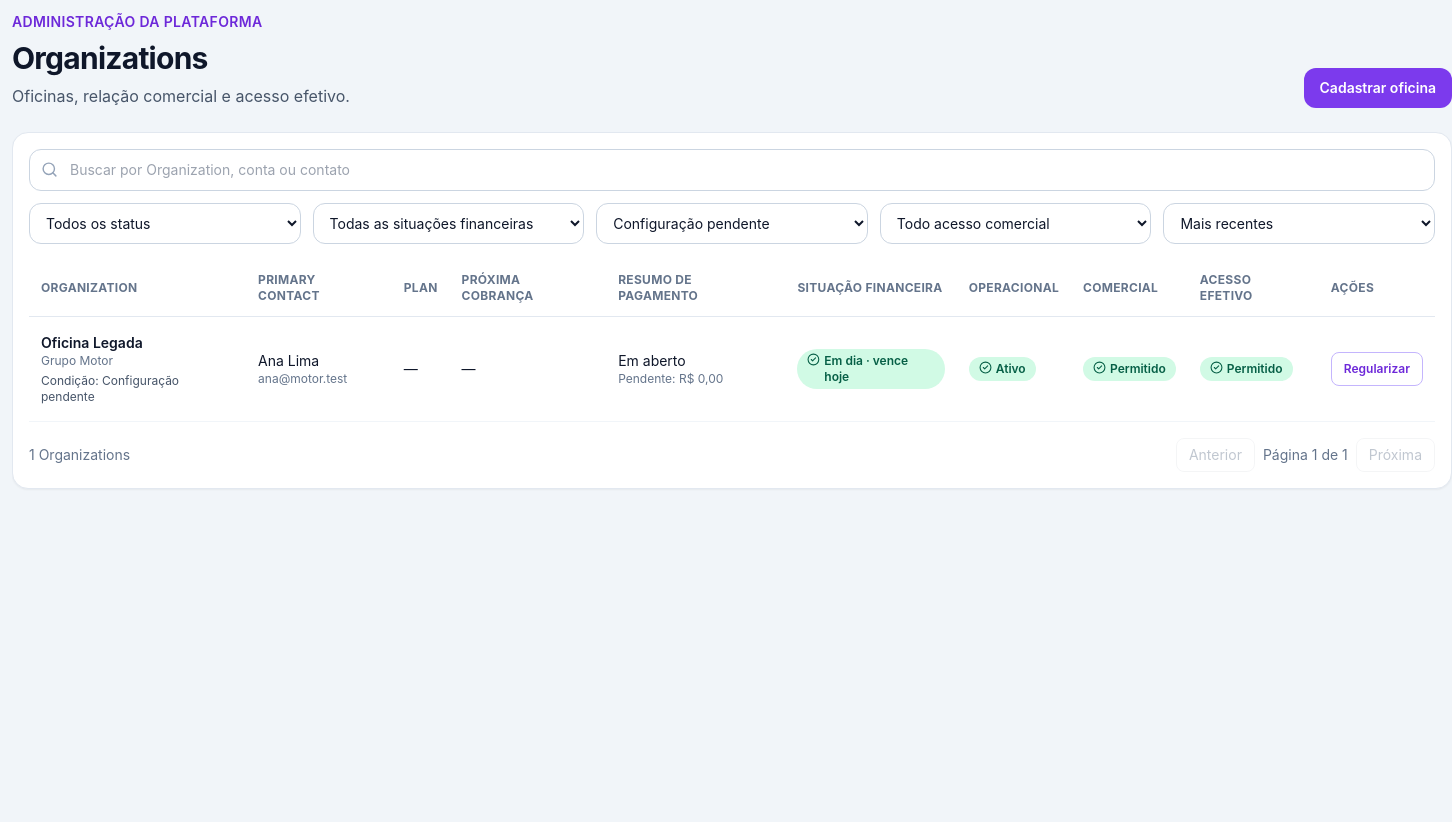
Test case: Platform Organizations › regularizes a pending Organization with the contracted price and billing dates
This screenshot has width=1452, height=822.
Click the button named "Regularizar Oficina Legada" at (1377, 369), box [1331,352,1423,386]
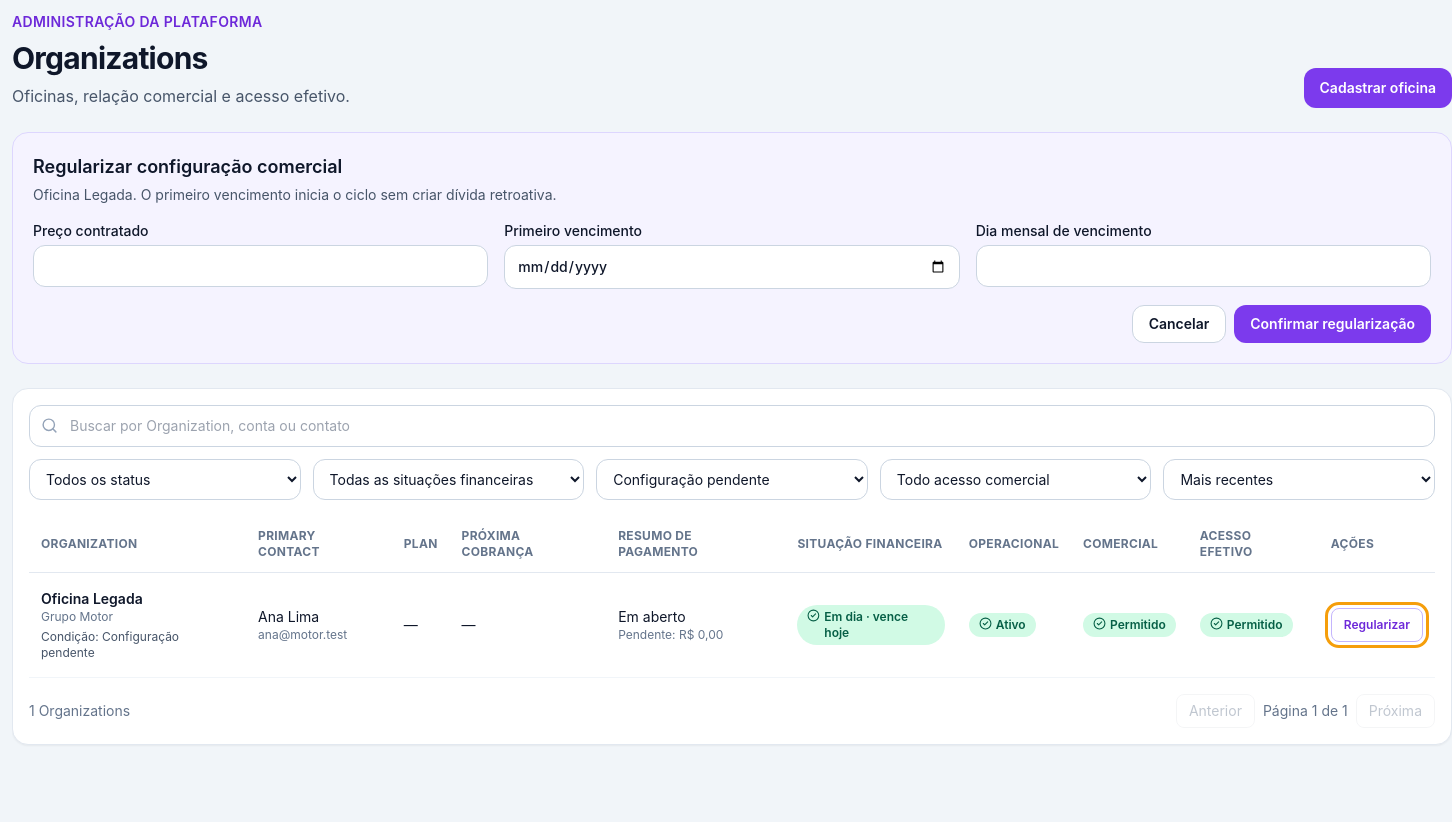
Type "89.90" into the field labelled "Preço contratado" at (261, 266), box [33,245,488,287]
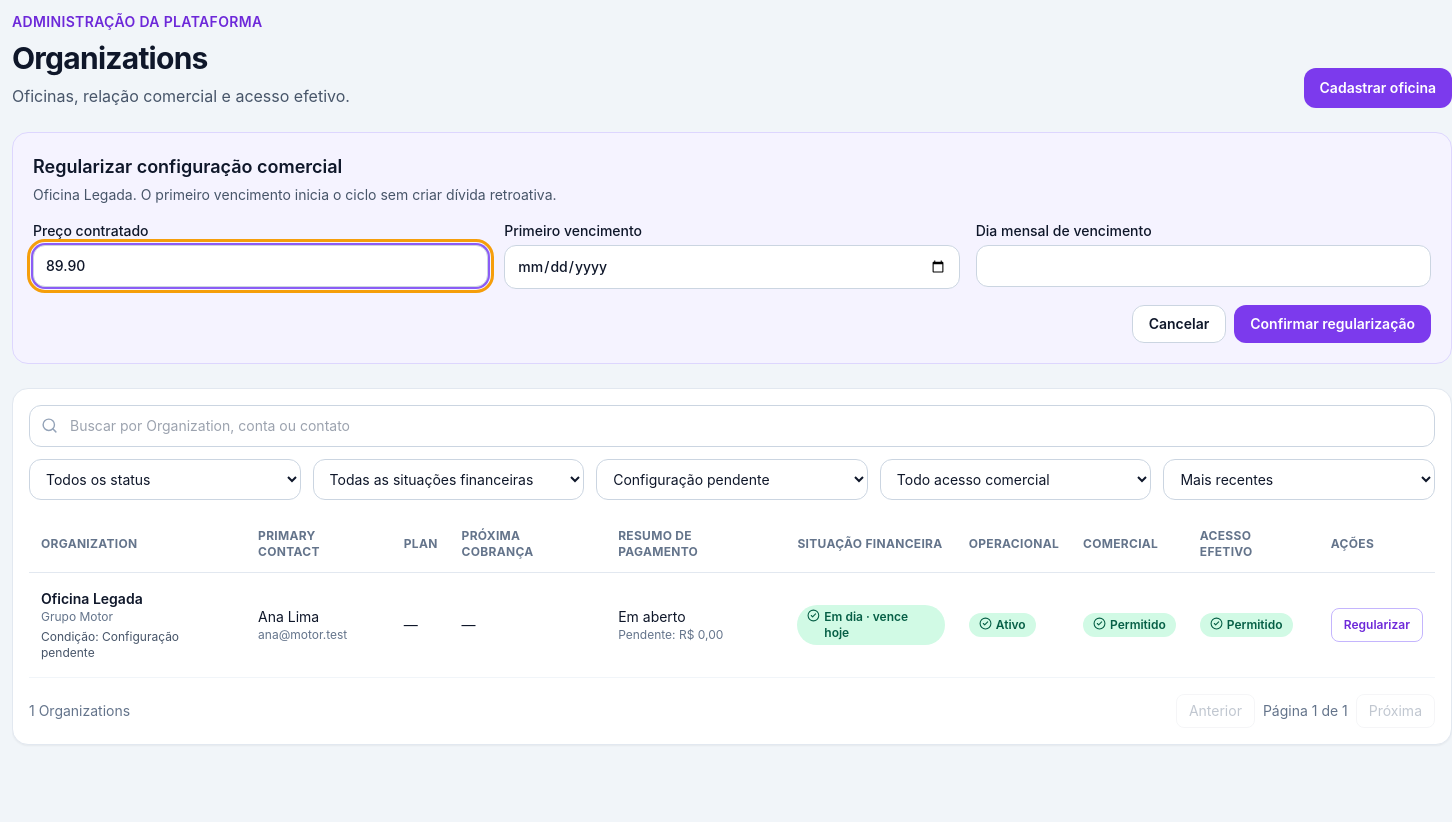
Type "2026-10-10" into the date field labelled "Primeiro vencimento" at (732, 267), box [504,245,960,289]
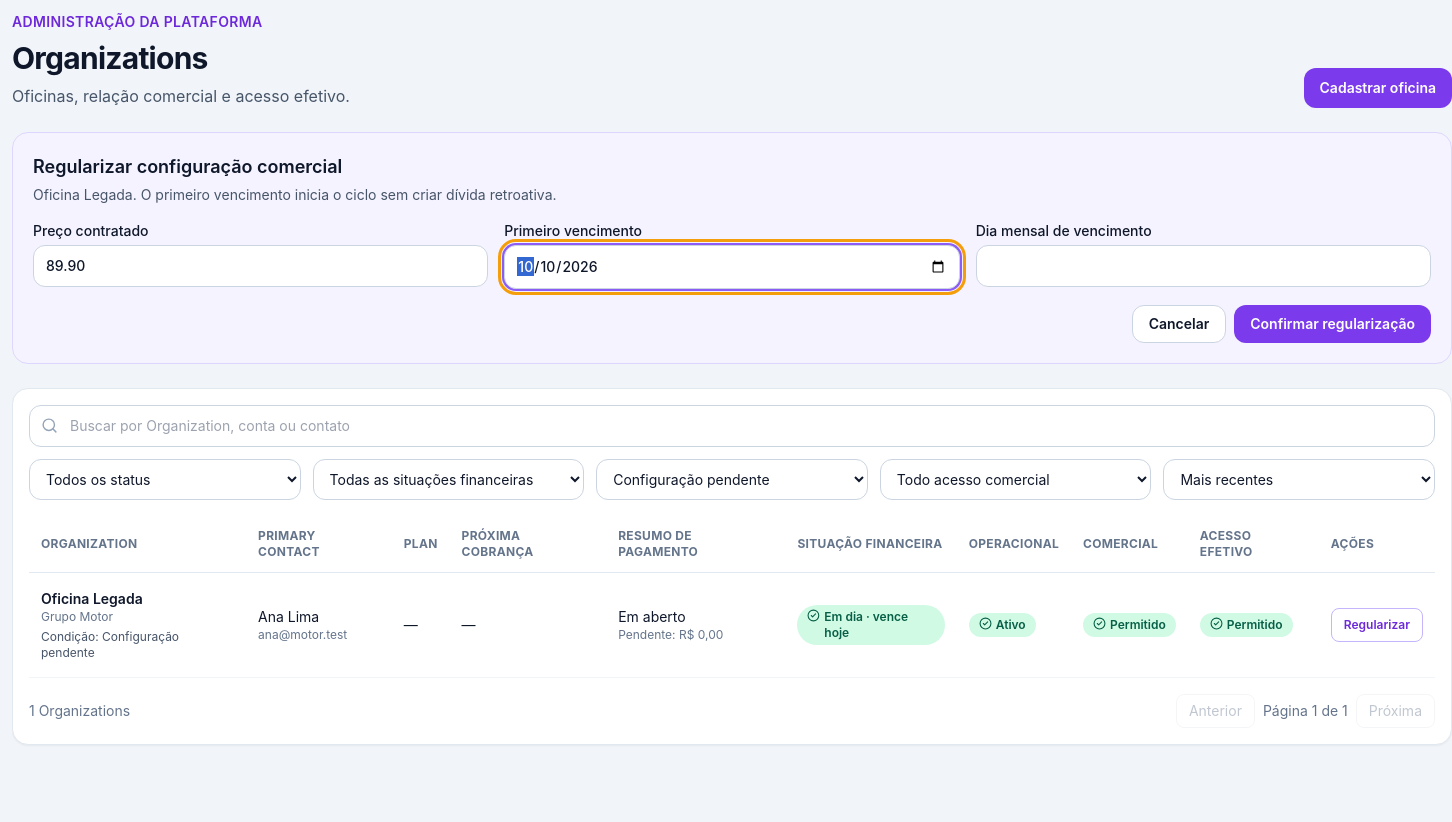
Type "10" into the number field labelled "Dia mensal de vencimento" at (1203, 266), box [976,245,1431,287]
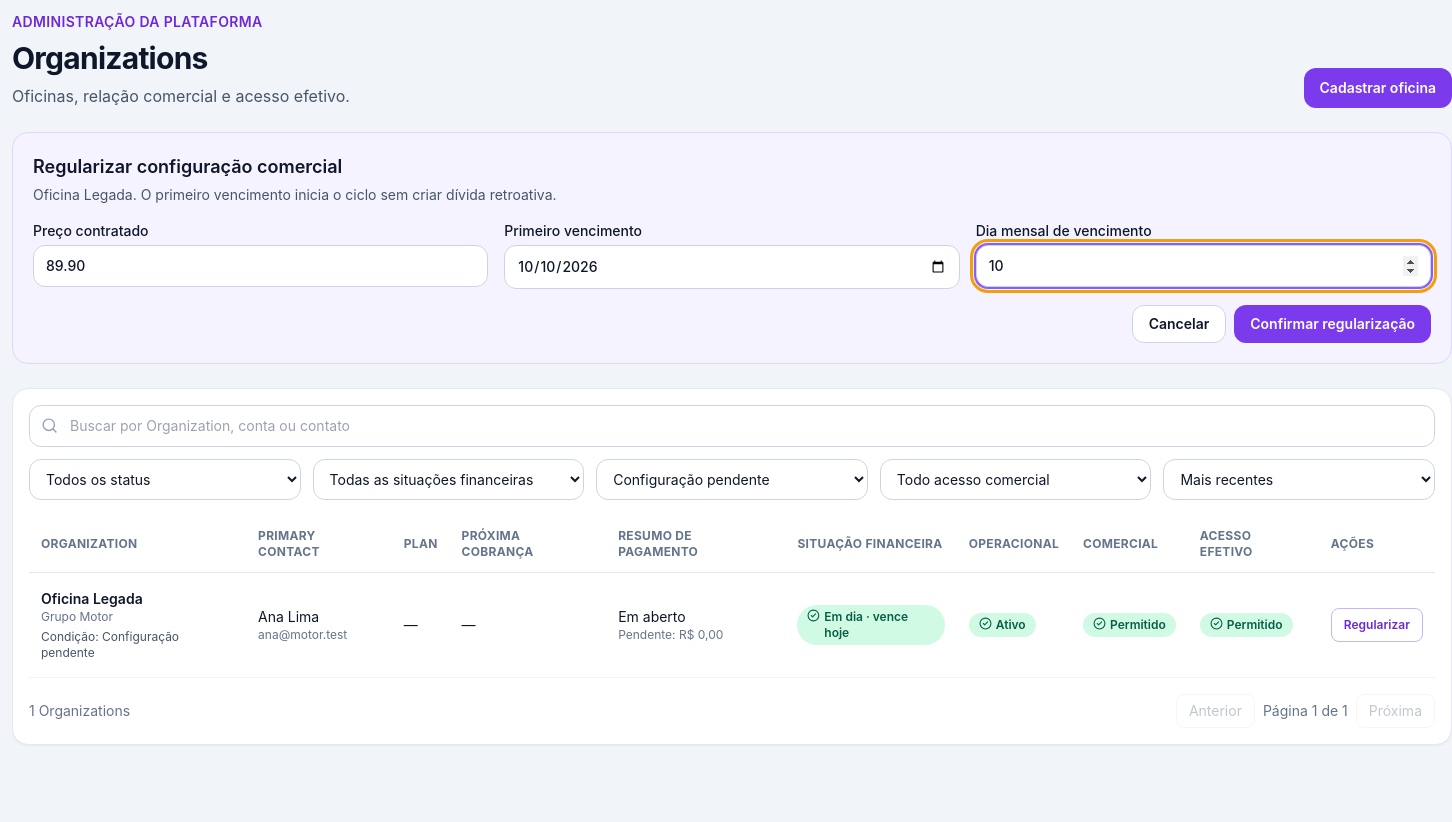
Click the button "Confirmar regularização" at (1333, 324), box [1234,305,1431,343]
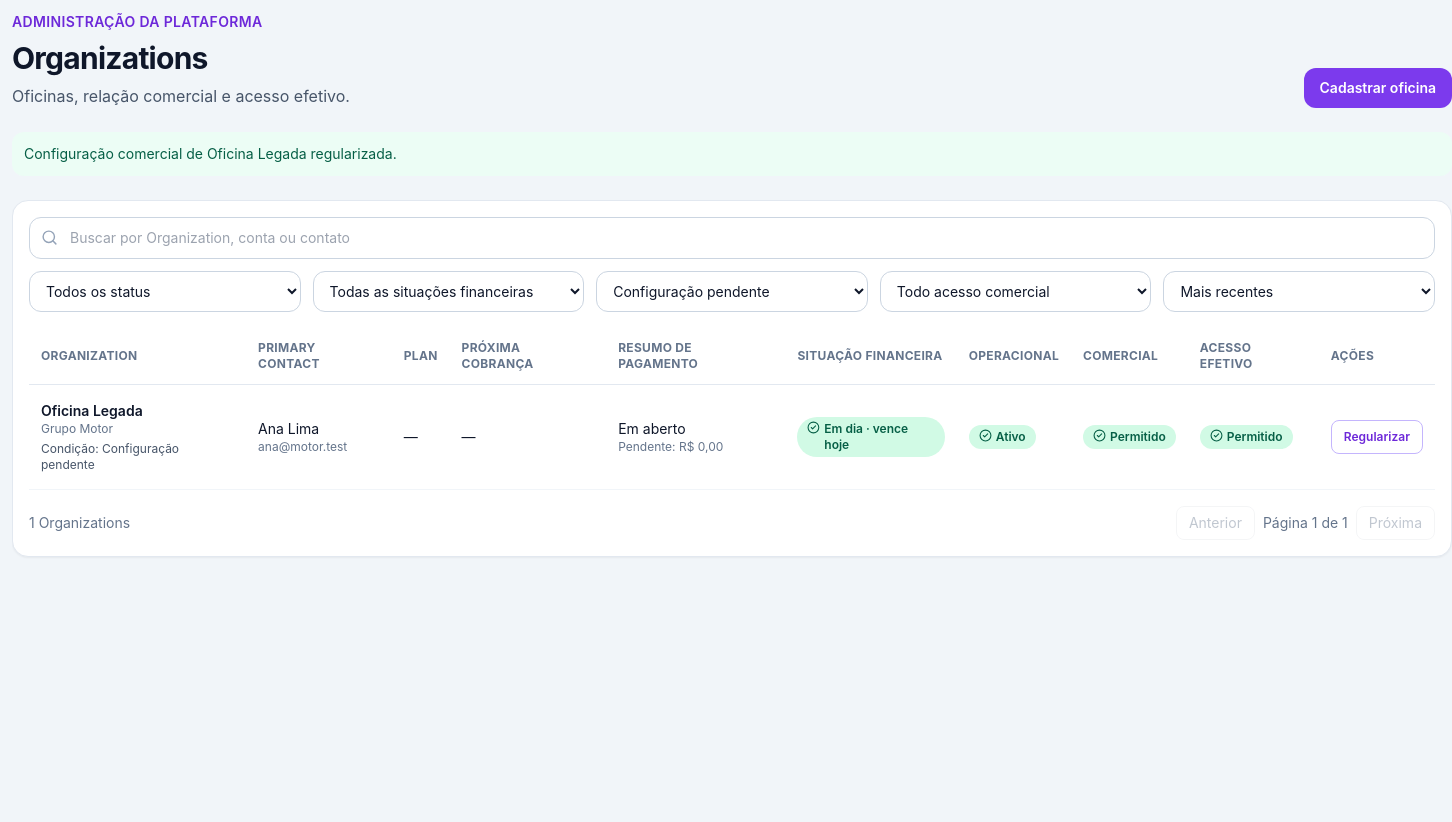
Now the text "Configuração comercial de Oficina Legada regularizada." is shown, box [12,132,1451,176]
